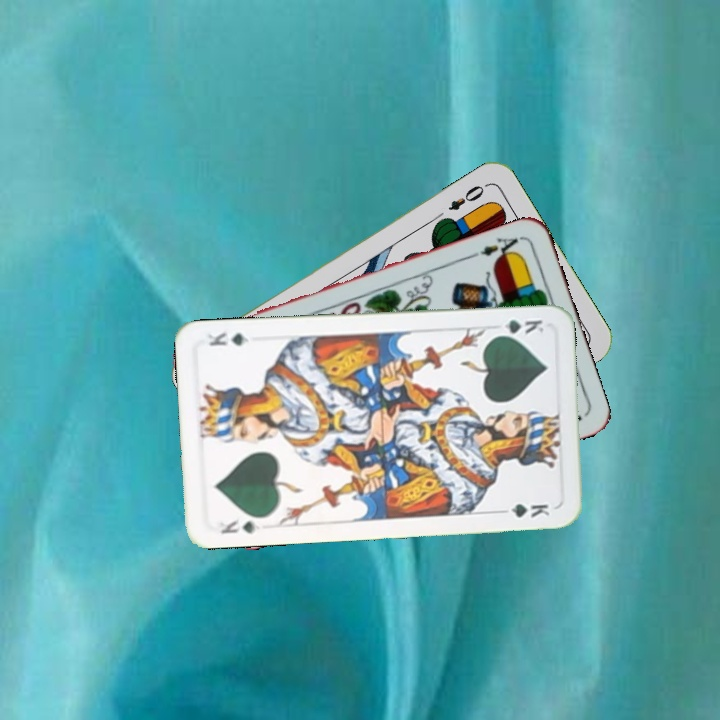EA: (467, 232, 524, 263)
EO: (444, 179, 491, 213)
GK: (489, 315, 548, 339), (209, 514, 262, 536)
